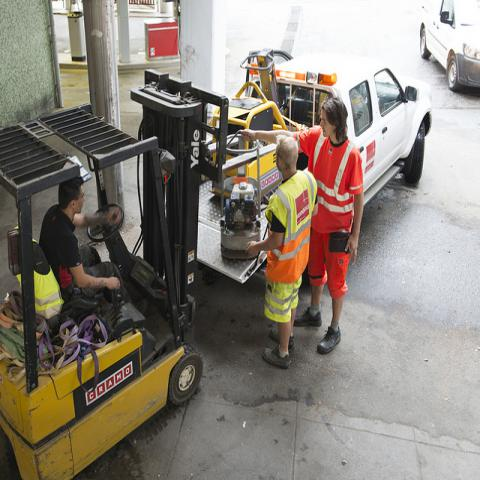truck: (1, 51, 439, 479), (418, 0, 480, 91)
